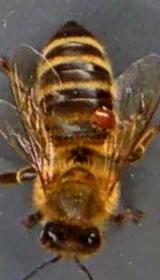varroa_mite: (86, 100, 120, 139)
